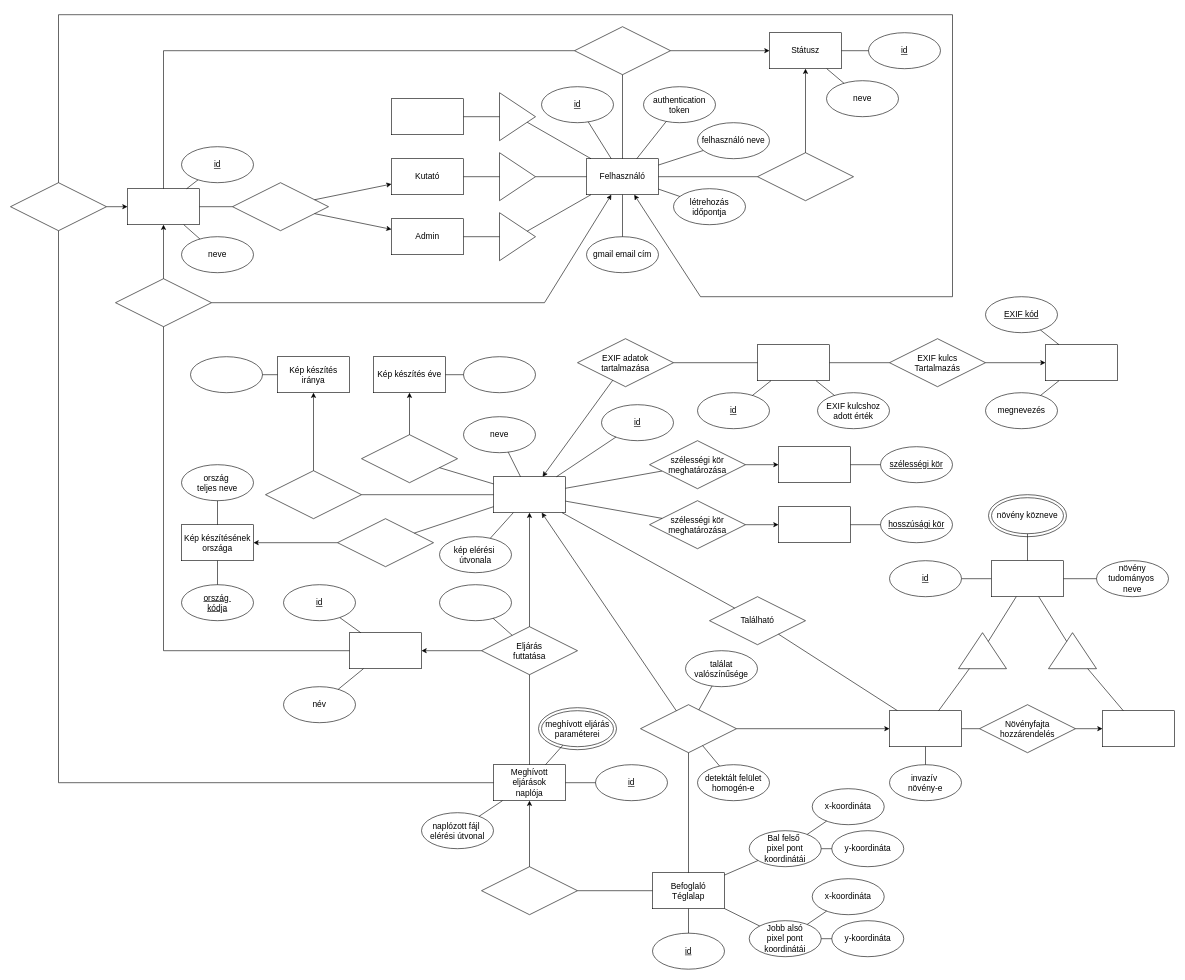
Some shapes in this 1185 by 980 pixel diagram are drawn without their labels. The box of each missing label's shape, as (x1, y1, x2, y2) in pixels:
Befoglaló téglalap generálása: (481, 866, 578, 915)
Csatlakozás csoporthoz: (574, 26, 670, 75)
Eljárás: (349, 632, 422, 669)
Eljárás létrehozása: (115, 278, 212, 327)
Eljárás meghívása: (10, 182, 106, 231)
EXIF adat: (757, 344, 830, 381)
EXIF kulcs: (1045, 344, 1118, 381)
Felhasználó státusza: (757, 152, 854, 201)
futtatás ideje: (439, 584, 512, 621)
GPS X koordináták: (778, 446, 850, 483)
GPS Y koordináták: (778, 506, 850, 543)
Hallgató: (391, 98, 464, 135)
irány meghatározása: (265, 470, 362, 519)
Irány neve: (190, 356, 262, 393)
Kutatócsoport: (127, 188, 200, 225)
Kutatócsoport létrehozása: (232, 182, 328, 231)
Kép: (493, 476, 566, 513)
készítés_éve: (463, 356, 536, 393)
Növényfajta: (1102, 710, 1174, 747)
Növénynév: (991, 560, 1064, 597)
Növénytípus: (889, 710, 962, 747)
Növénytípus detektálása: (640, 704, 736, 753)
ország meghatározása: (337, 518, 434, 567)
év meghatározása: (361, 434, 458, 483)
